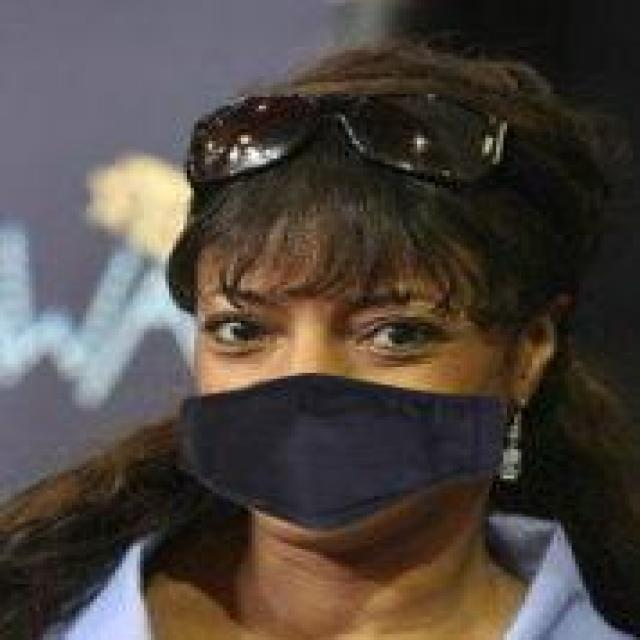mask: (158, 179, 608, 564)
